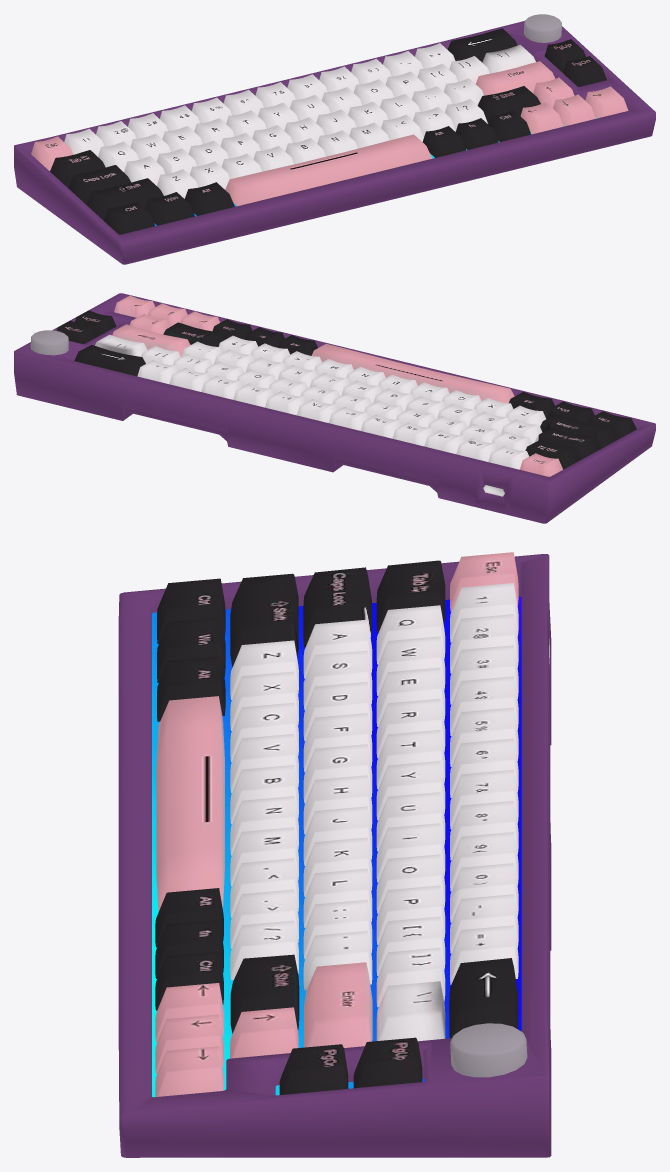
The model's file is key_opt.glb.
The picture shows the model from 3 angles, top to bottom: view 1: azimuth 30°, elevation 25°; view 2: azimuth 150°, elevation 25°; view 3: azimuth 270°, elevation 25°; orthographic projection. The views are drawn at different scales.
Visible parts, largest first — view 1: Keyboard.001, Key Space.001, Key LeftShift.001, Key Enter.001, Key Back.001, Key CapsLock.001, Key RightShift.001, Key LeftCtrl.001, Key Win.001, Key LeftAlt.001, Key Tab.001, \.001 (+56 smaller); view 2: Keyboard.001, Key Space.001, Key Back.001, Key LeftShift.001, Key Enter.001, Key CapsLock.001, Circle.002, Key RightShift.001, Key Tab.001, Key LeftCtrl.001, Key Escape.001, \.001 (+56 smaller); view 3: Keyboard.001, RGB.002, Key Space.001, Key Enter.001, Key LeftShift.001, Key Back.001, \.001, Key RightShift.001, Key CapsLock.001, Circle.002, Key Tab.001, right.001 (+57 smaller).
Part boxes in pixels (bbox=[...]): Keyboard.001: bbox=[14, 21, 655, 264]; Key Space.001: bbox=[225, 134, 432, 206]; Key LeftShift.001: bbox=[86, 178, 163, 220]; Key Enter.001: bbox=[476, 61, 555, 95]; Key Back.001: bbox=[447, 28, 517, 62]; Key CapsLock.001: bbox=[68, 165, 131, 203]; Key RightShift.001: bbox=[477, 86, 540, 122]; Key LeftCtrl.001: bbox=[104, 201, 154, 234]; Key Win.001: bbox=[145, 192, 194, 225]; Key LeftAlt.001: bbox=[185, 182, 234, 215]; Key Tab.001: bbox=[50, 150, 105, 187]; \.001: bbox=[482, 44, 535, 73]; Keyboard.001: bbox=[14, 293, 655, 523]; Key Space.001: bbox=[311, 343, 514, 403]; Key Back.001: bbox=[74, 345, 145, 376]; Key LeftShift.001: bbox=[540, 414, 617, 449]; Key Enter.001: bbox=[112, 324, 190, 356]; Key CapsLock.001: bbox=[534, 428, 599, 459]; Circle.002: bbox=[30, 330, 68, 355]; Key RightShift.001: bbox=[163, 322, 224, 346]; Key Tab.001: bbox=[525, 439, 580, 469]; Key LeftCtrl.001: bbox=[588, 411, 636, 439]; Key Escape.001: bbox=[519, 453, 562, 476]; \.001: bbox=[95, 334, 147, 356]; Keyboard.001: bbox=[118, 554, 551, 1157]; RGB.002: bbox=[152, 596, 521, 1097]; Key Space.001: bbox=[156, 696, 224, 912]; Key Enter.001: bbox=[304, 962, 372, 1047]; Key LeftShift.001: bbox=[230, 573, 298, 667]; Key Back.001: bbox=[449, 958, 517, 1038]; \.001: bbox=[376, 981, 445, 1041]; Key RightShift.001: bbox=[230, 954, 299, 1033]; Key CapsLock.001: bbox=[303, 567, 371, 647]; Circle.002: bbox=[450, 1023, 527, 1077]; Key Tab.001: bbox=[376, 560, 445, 632]; right.001: bbox=[155, 1046, 223, 1096].
Size of the model in its own units: 0.4444 by 0.0409 by 0.1552.
1 material, 1 textured.
